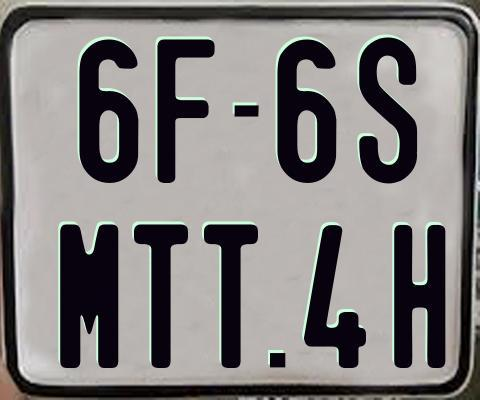4: (304, 223, 369, 372)
6: (277, 38, 341, 182), (77, 36, 137, 185)
F: (156, 37, 220, 186)
H: (392, 223, 447, 368)
M: (58, 223, 121, 369)
S: (358, 35, 418, 185)
T: (131, 223, 188, 371), (204, 222, 259, 369)
